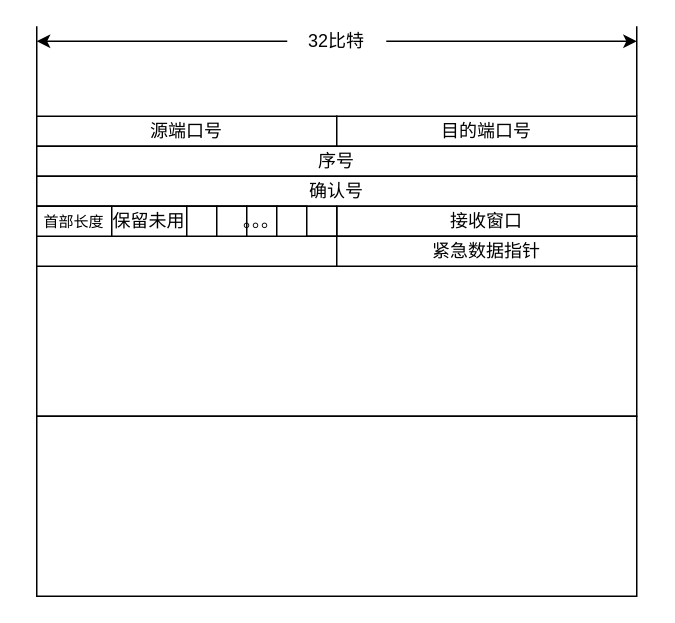
This 675x623 diagram has some shape labels left out. The shapes that lost their labels are listed below. From the top down, each one's centre as x and y in pixels, then its label:
the point at 336,340: 选项
the point at 336,505: 数据
